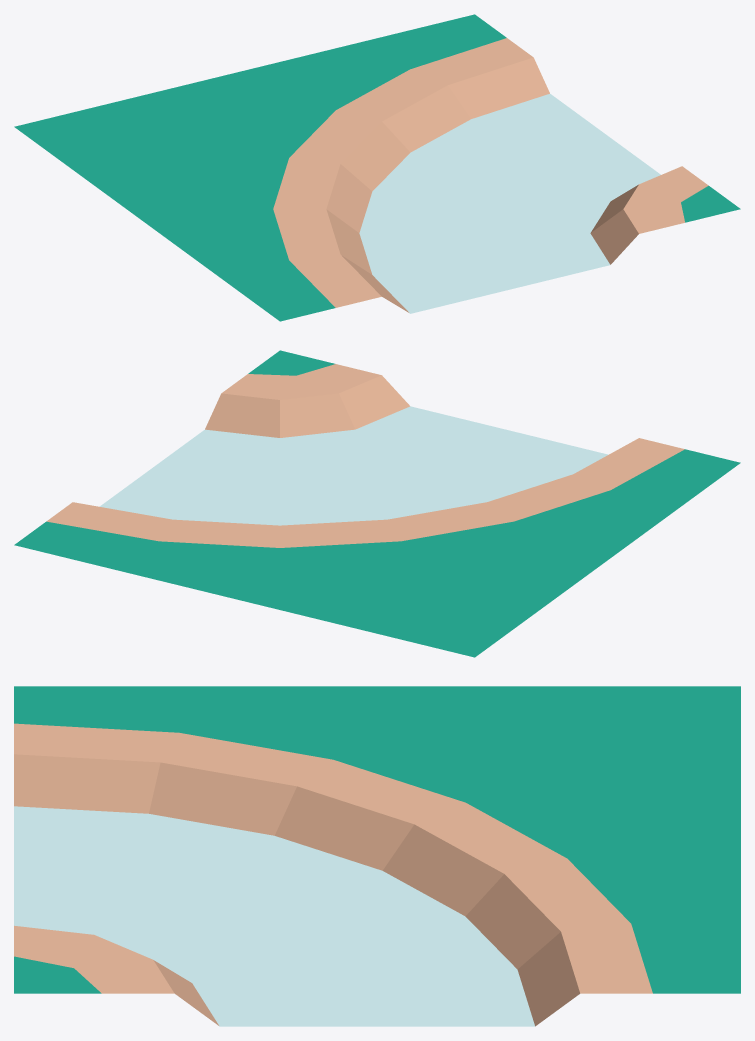
Rendered from ground_riverBend.glb.
3 views of the same model, one above another, from view 1: azimuth 30°, elevation 25°; view 2: azimuth 150°, elevation 25°; view 3: azimuth 270°, elevation 25° (orthographic). The views are drawn at different scales.
Parts seen in each view (by area): view 1: ground_riverBend; view 2: ground_riverBend; view 3: ground_riverBend.
Boxes of the visible parts, x1=… form: ground_riverBend: x1=14, y1=14, x2=740, y2=321; ground_riverBend: x1=14, y1=350, x2=740, y2=657; ground_riverBend: x1=14, y1=686, x2=740, y2=1026.
Bounding box in the file's own units: 1.2 × 0.06 × 1.2.
